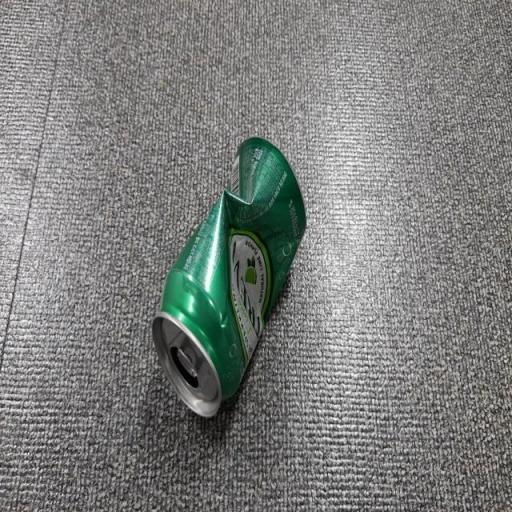metal: (130, 118, 332, 446)
